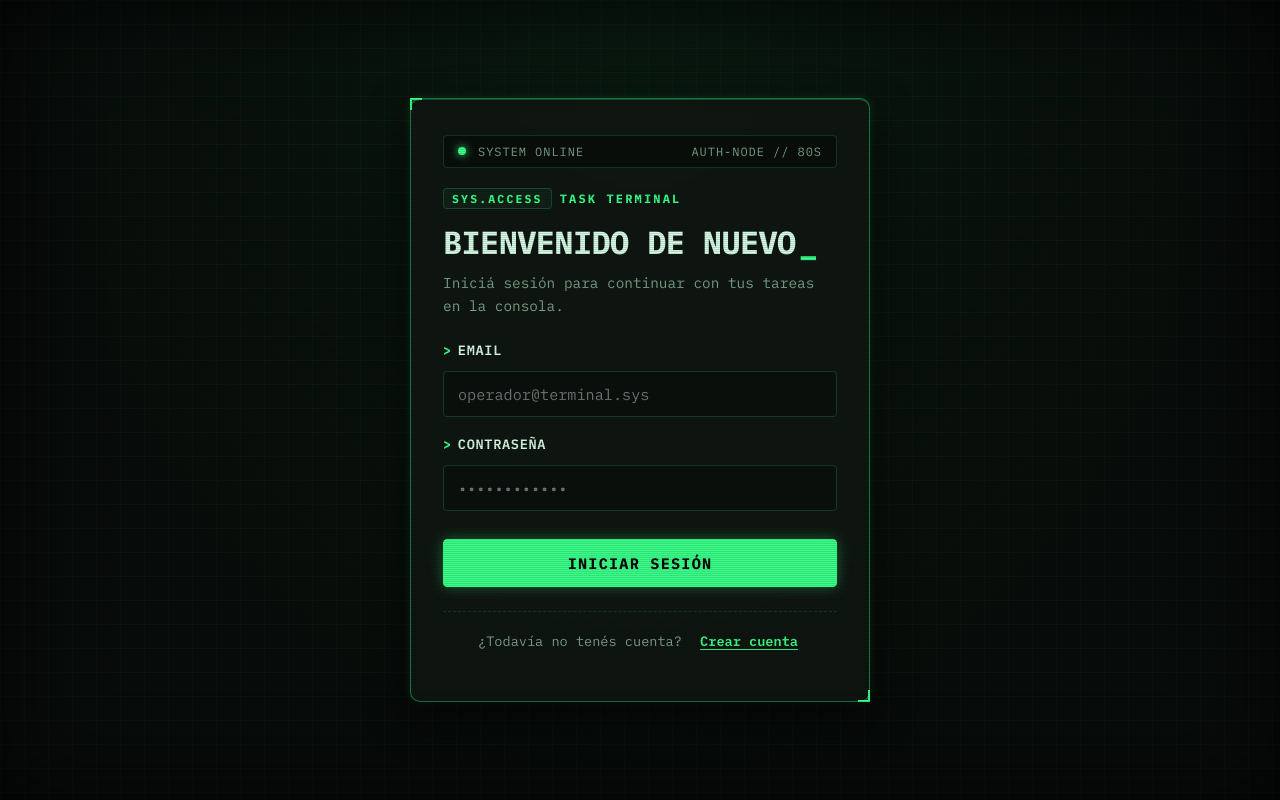
Scenario: LoginPage › muestra un error cuando las credenciales son incorrectas
Type "test@example.com" into the field labelled "Email" at (640, 394), box [443,371,837,417]
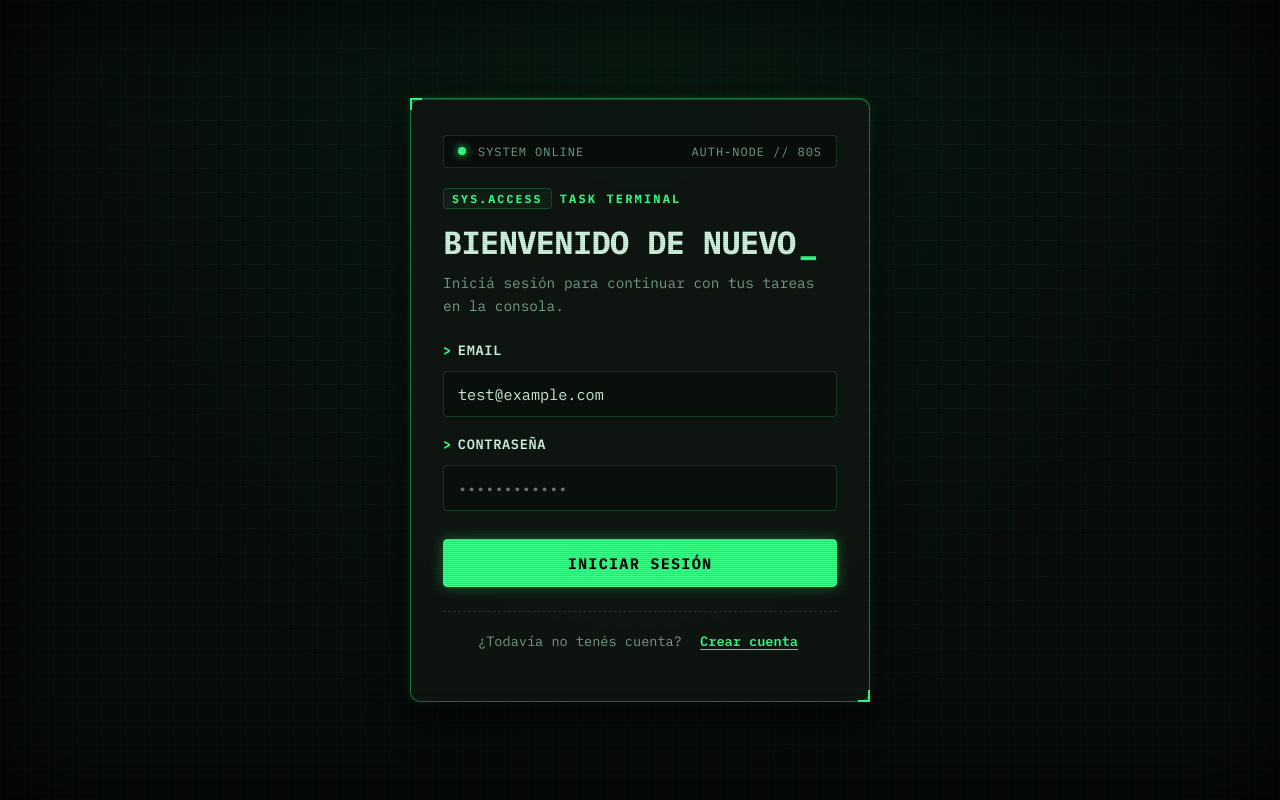
Type "incorrecta" into the password field labelled "Contraseña" at (640, 488), box [443,465,837,511]
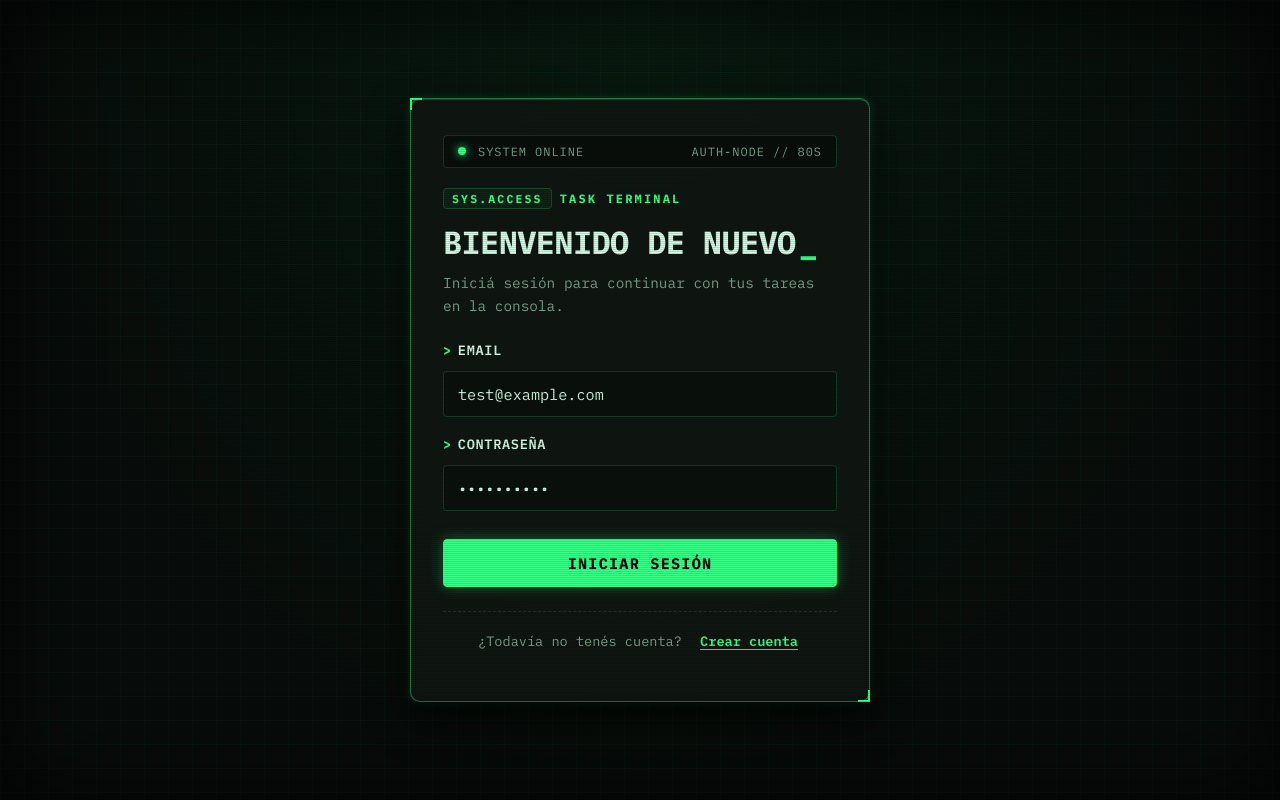
Click the button "Iniciar sesión" at (640, 563), box [443,539,837,587]
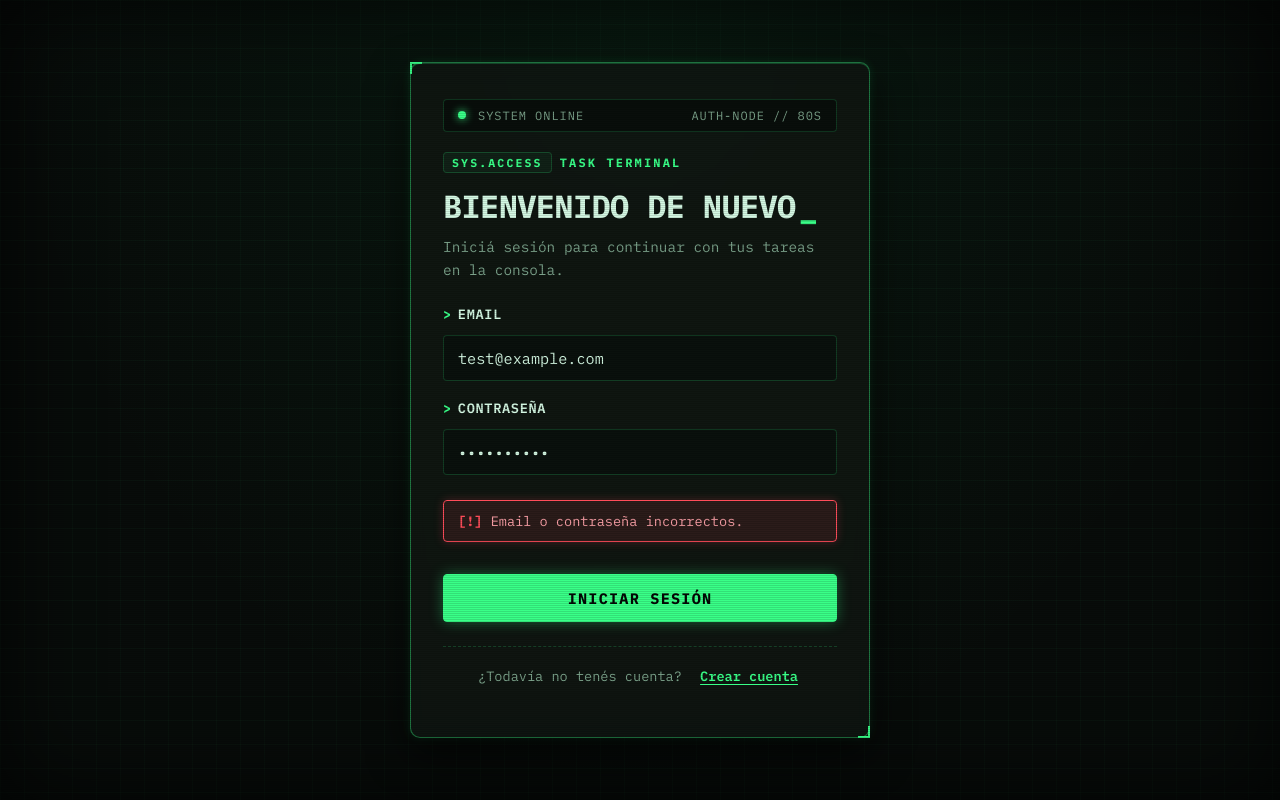
Result: the message reads "Email o contraseña incorrectos." at [491,512,743,530]
